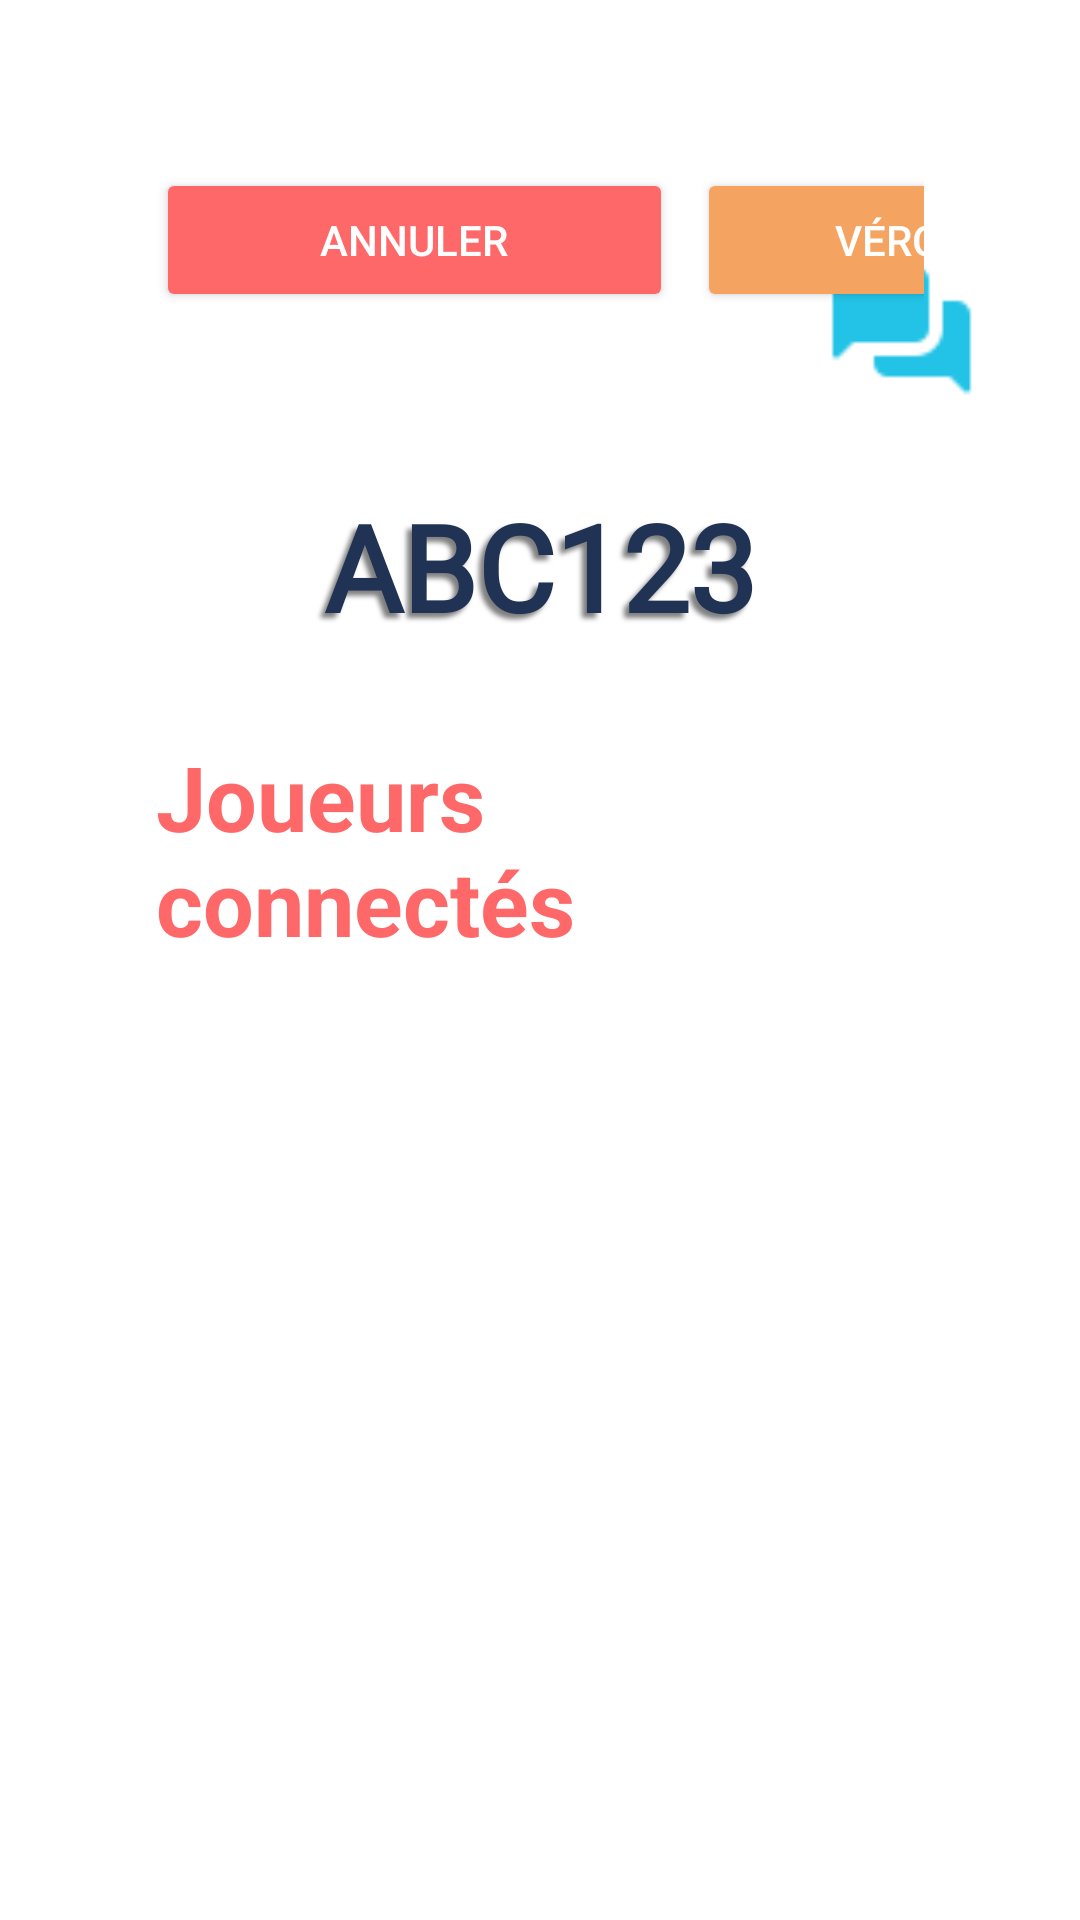

Icon bounding boxes for this 1080 × 1920 phone screenshot, format bbox=[x1, y1, x2, y2]:
use chat: bbox=[819, 246, 972, 395]
